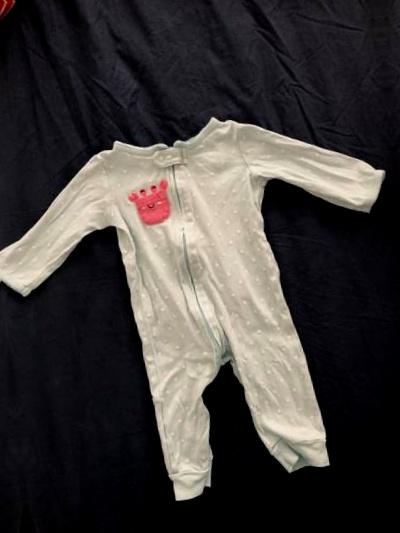Body: (0, 82, 400, 524), (0, 123, 25, 533), (31, 507, 400, 533)
